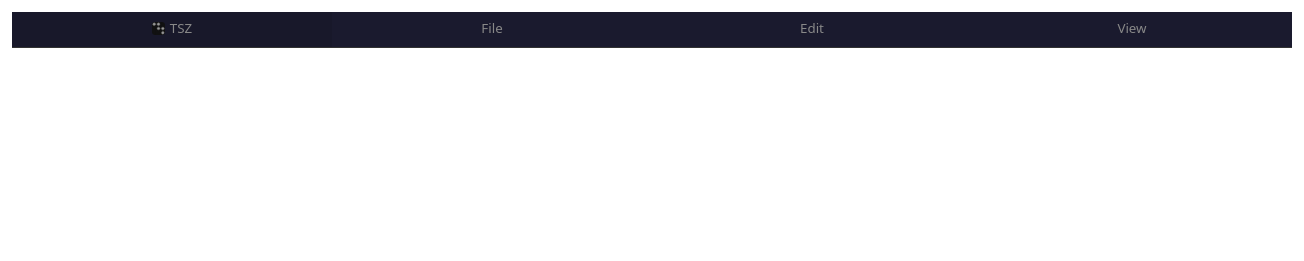
Test: clicking Edit tab shows all Edit menu items
Click the button "Edit" at point(812, 30), box [652,12,972,47]
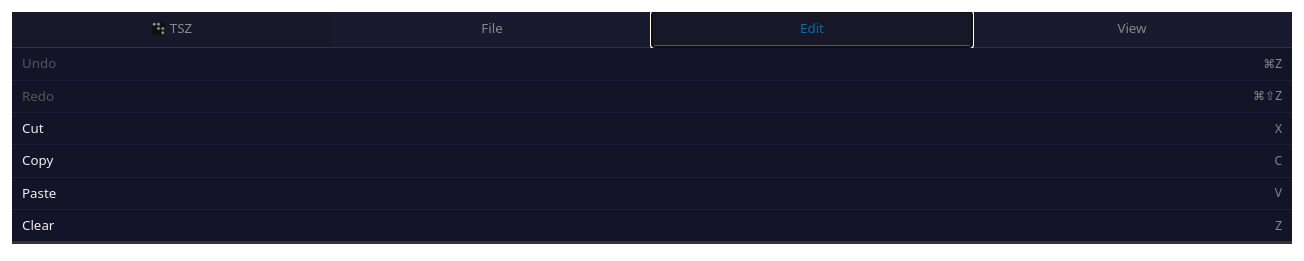
Result: the text "Undo" is shown at [22,54,56,72]
Result: the text "Redo" is shown at [22,87,54,105]
Result: the text "Cut" is shown at [22,119,44,137]
